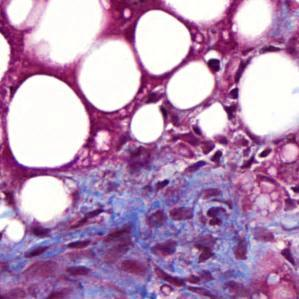steatosis: (9, 75, 90, 170), (130, 5, 199, 78), (166, 63, 219, 111)
